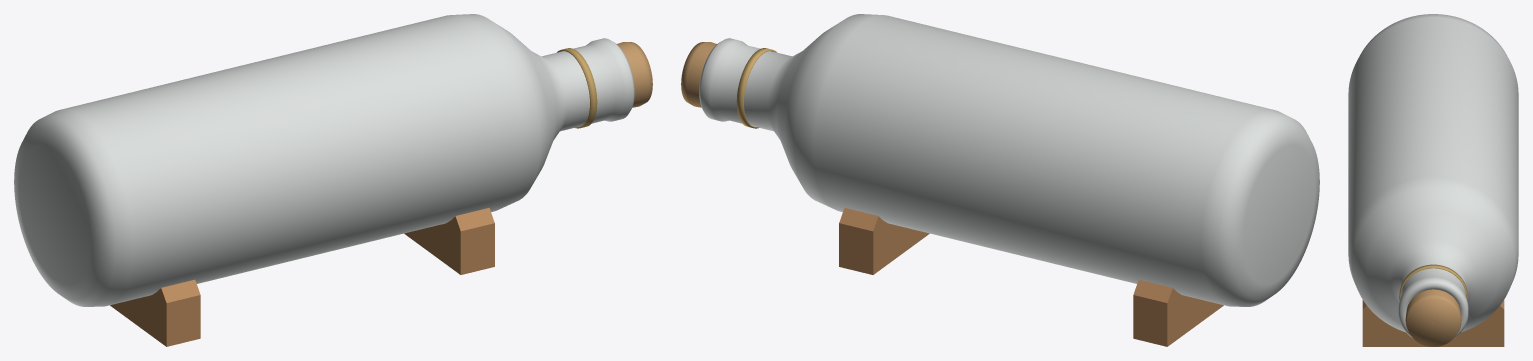
Rendered from steamboat-bottle-v3.glb.
3 views of the same model, side by side, from view 1: azimuth 30°, elevation 25°; view 2: azimuth 150°, elevation 25°; view 3: azimuth 270°, elevation 25° (orthographic). The views are drawn at different scales.
Visible parts, largest first — view 1: Bottle | thick transparent glass, Cradle | shaped maple saddle, Cradle | shaped maple saddle.001, Bottle | cork stopper, Bottle | neck brass collar; view 2: Bottle | thick transparent glass, Cradle | shaped maple saddle, Cradle | shaped maple saddle.001, Bottle | cork stopper, Bottle | neck brass collar; view 3: Bottle | thick transparent glass, Cradle | shaped maple saddle.001, Bottle | cork stopper, Bottle | neck brass collar.
Part boxes in pixels (bbox=[...]): Bottle | thick transparent glass: bbox=[14, 14, 634, 306]; Cradle | shaped maple saddle: bbox=[110, 279, 200, 346]; Cradle | shaped maple saddle.001: bbox=[404, 207, 494, 274]; Bottle | cork stopper: bbox=[617, 42, 652, 107]; Bottle | neck brass collar: bbox=[557, 48, 597, 128]; Bottle | thick transparent glass: bbox=[699, 14, 1319, 306]; Cradle | shaped maple saddle: bbox=[1133, 279, 1223, 346]; Cradle | shaped maple saddle.001: bbox=[839, 207, 929, 274]; Bottle | cork stopper: bbox=[681, 42, 716, 107]; Bottle | neck brass collar: bbox=[736, 48, 776, 128]; Bottle | thick transparent glass: bbox=[1348, 14, 1518, 337]; Cradle | shaped maple saddle.001: bbox=[1362, 300, 1504, 346]; Bottle | cork stopper: bbox=[1405, 289, 1461, 346]; Bottle | neck brass collar: bbox=[1399, 264, 1467, 299].
Size of the model in its own units: 1.88 by 0.647 by 0.564.
